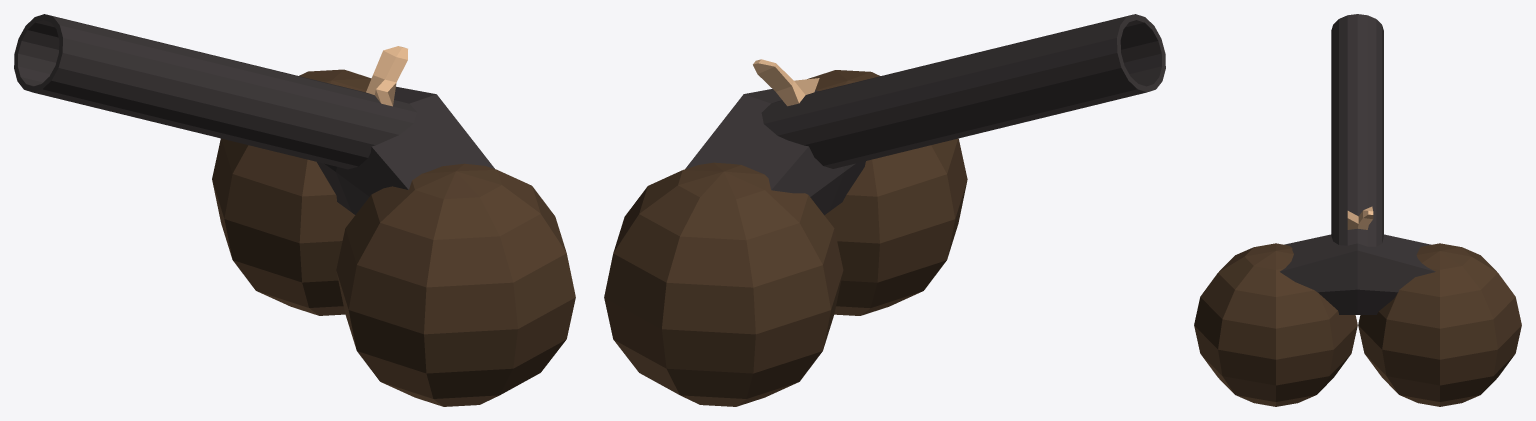
File: canon.fbx
3 views of the same model, side by side, from view 1: azimuth 30°, elevation 25°; view 2: azimuth 150°, elevation 25°; view 3: azimuth 270°, elevation 25° (orthographic). The views are drawn at different scales.
Visible parts, largest first — view 1: "a left wheel", Barrel, "a right wheel", Something; view 2: "a right wheel", Barrel, "a left wheel", Something; view 3: "a right wheel", "a left wheel", Barrel, Something.
Part boxes in pixels (bbox=[...]): "a left wheel": bbox=[336, 163, 575, 406]; Barrel: bbox=[14, 14, 417, 169]; "a right wheel": bbox=[212, 69, 371, 315]; Something: bbox=[317, 86, 494, 214]; "a right wheel": bbox=[604, 162, 843, 406]; Barrel: bbox=[753, 14, 1165, 168]; "a left wheel": bbox=[807, 70, 967, 315]; Something: bbox=[685, 89, 865, 215]; "a right wheel": bbox=[1358, 243, 1521, 406]; "a left wheel": bbox=[1194, 243, 1357, 406]; Barrel: bbox=[1331, 14, 1383, 246]; Something: bbox=[1280, 234, 1435, 314].
Bounding box in the file's own units: 3.13 × 3.47 × 2.9.
